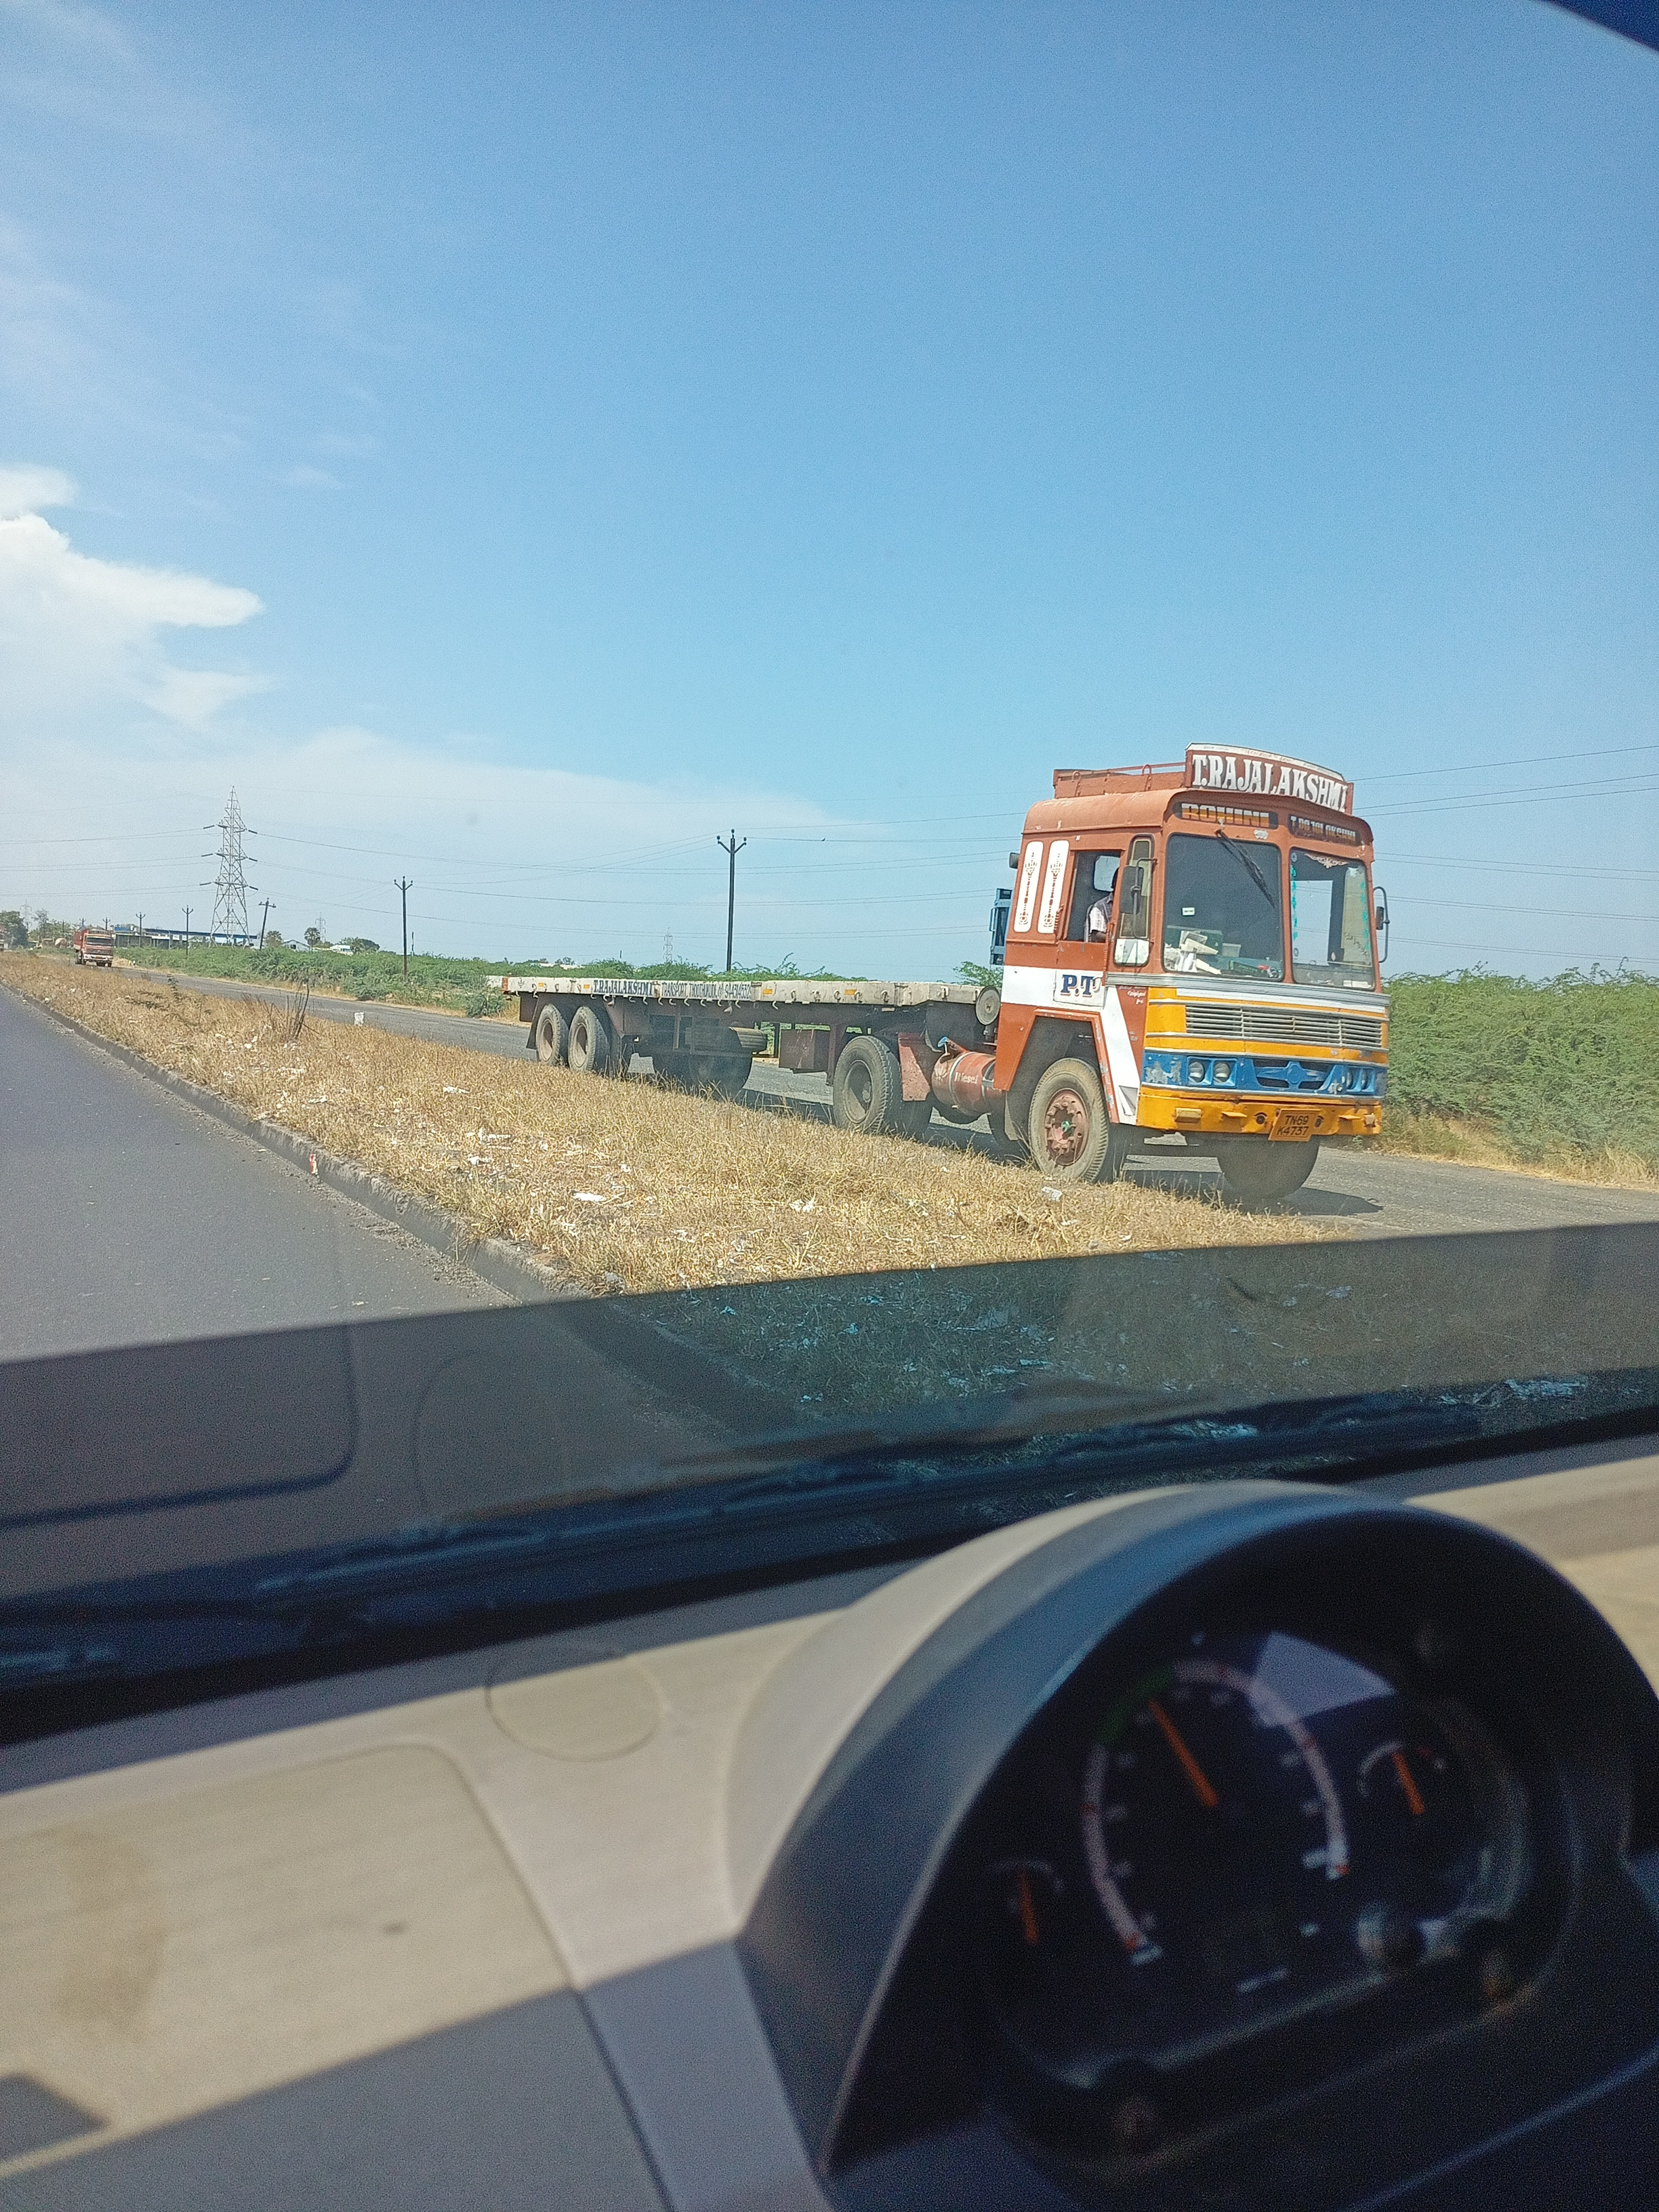truck: (477, 738, 1396, 1200), (73, 927, 115, 967)
